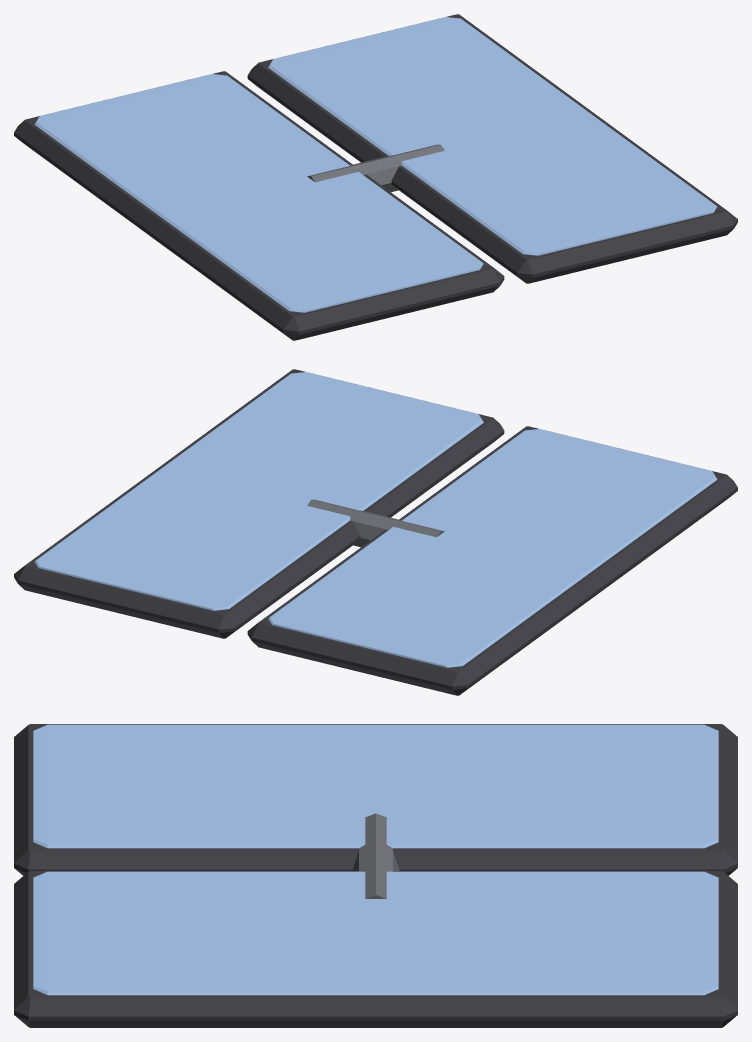
File: computers-and-desk-gadgets-phone-fold-open-3e789853__38850.glb
3 renders of one model, top to bottom at view 1: azimuth 30°, elevation 25°; view 2: azimuth 150°, elevation 25°; view 3: azimuth 270°, elevation 25°, orthographic. The views are drawn at different scales.
Visible parts, largest first — view 1: phone-fold-open; view 2: phone-fold-open; view 3: phone-fold-open.
Part boxes in pixels (bbox=[...]): phone-fold-open: bbox=[14, 14, 737, 340]; phone-fold-open: bbox=[14, 369, 737, 695]; phone-fold-open: bbox=[14, 724, 737, 1027].
Bounding box in the file's own units: 0.14 × 0.01 × 0.15.
